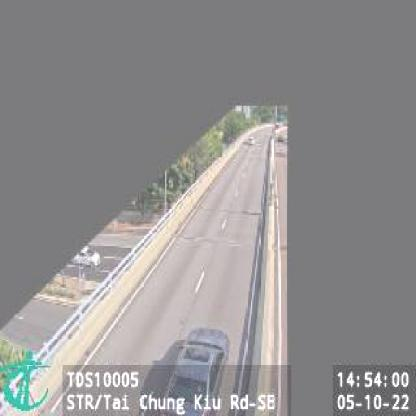Car: (160, 326, 227, 412)
